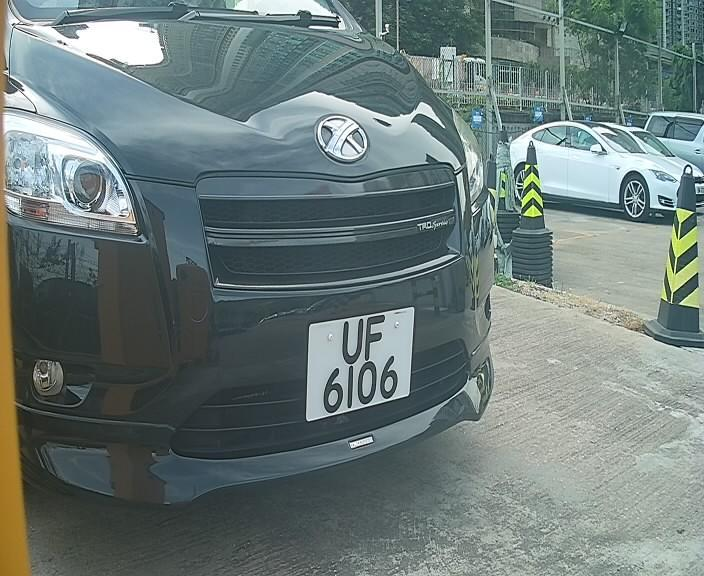privatecar: (4, 16, 516, 502)
